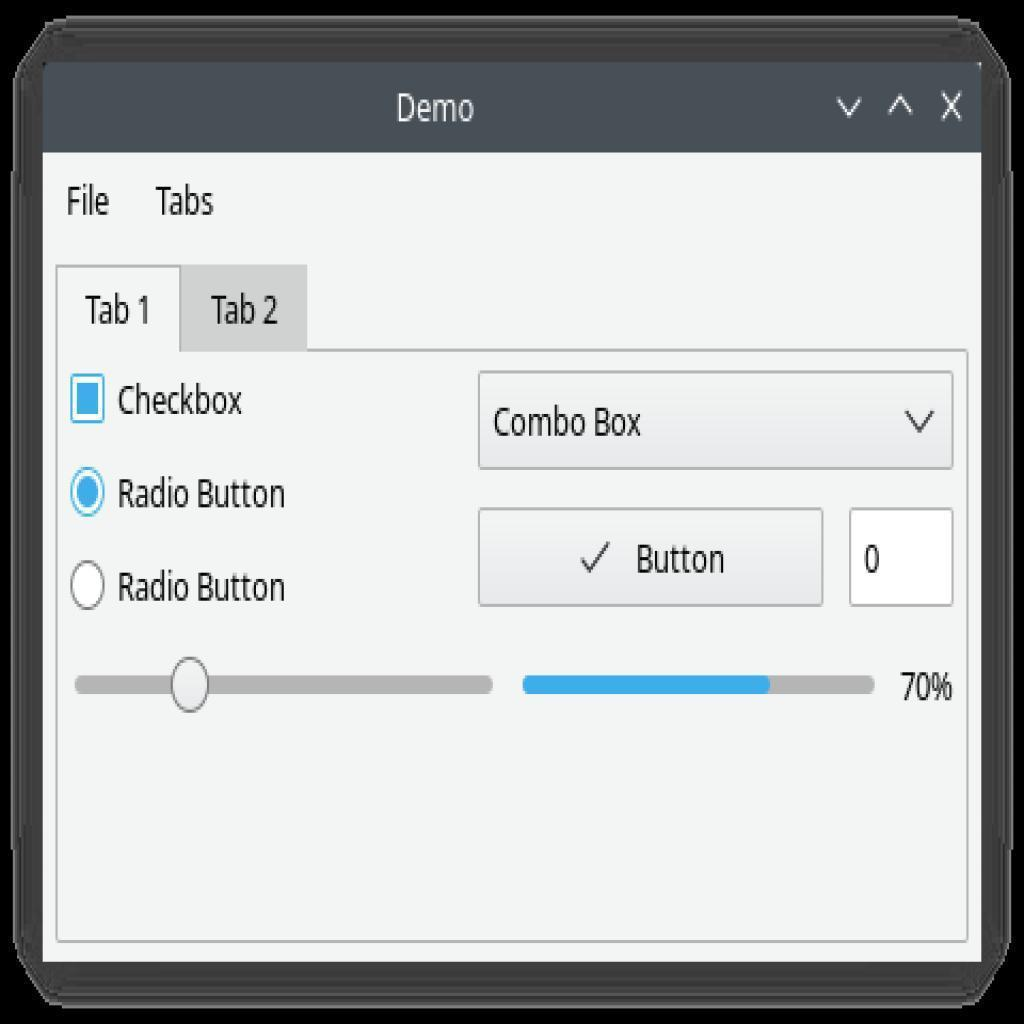button: (477, 508, 825, 610), (180, 264, 308, 353)
checkbox: (68, 376, 106, 425)
dropdown: (480, 370, 954, 469)
icon: (879, 86, 919, 128), (829, 90, 869, 129), (931, 89, 968, 128)
input: (850, 510, 953, 606)
radio: (68, 465, 107, 521), (70, 557, 105, 611)
